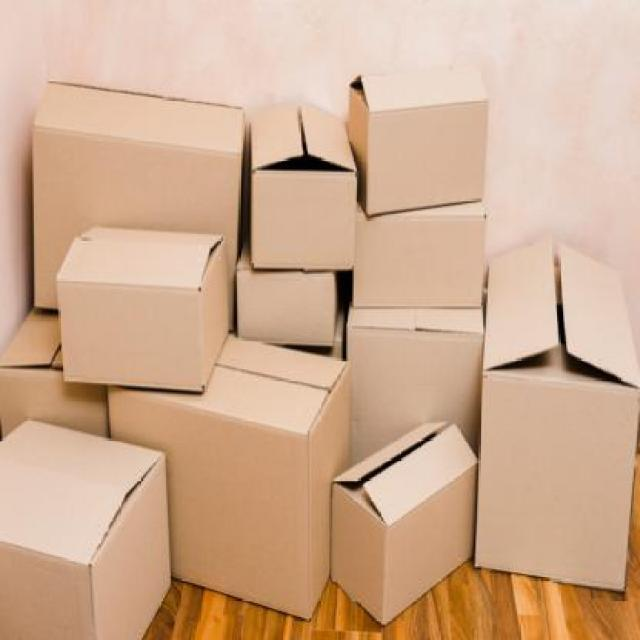box: (105, 337, 355, 620), (480, 235, 640, 590), (31, 79, 240, 334), (0, 420, 175, 635), (330, 422, 479, 625), (55, 223, 229, 389), (338, 305, 486, 480), (349, 68, 487, 213), (249, 104, 350, 268), (0, 310, 121, 444), (349, 198, 485, 309), (233, 241, 339, 352)
